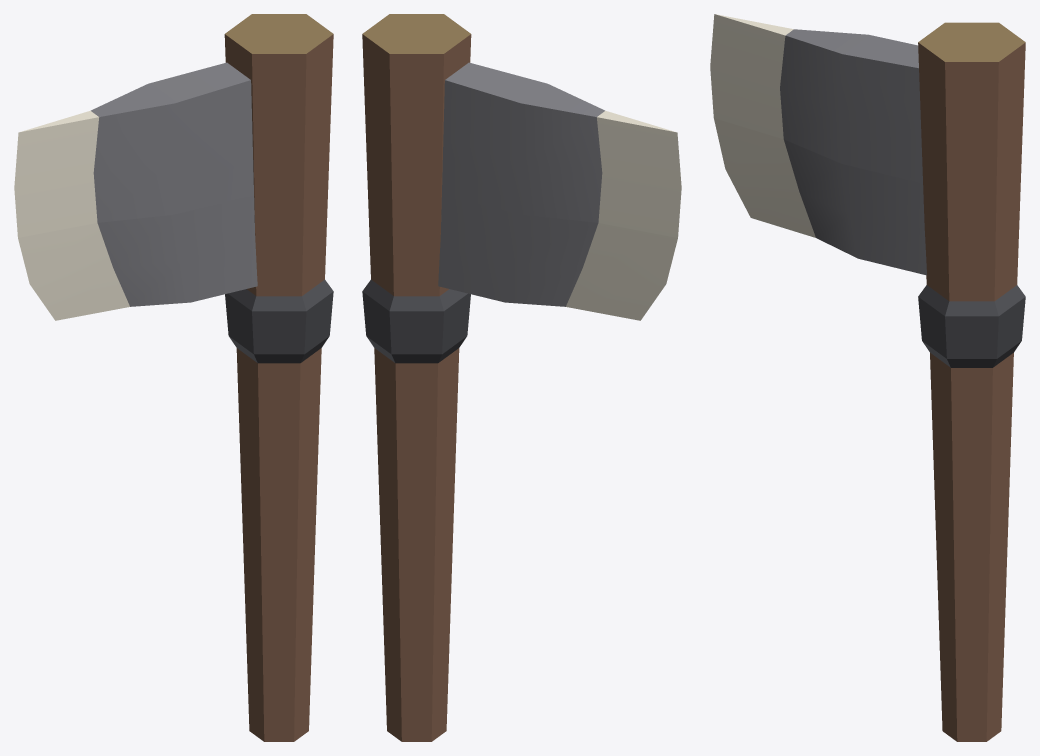
Rendered from Axe.fbx.
3 renders of one model, left to right at view 1: azimuth 30°, elevation 25°; view 2: azimuth 150°, elevation 25°; view 3: azimuth 330°, elevation 25°, orthographic.
Visible parts, largest first — view 1: pCylinder165; view 2: pCylinder165; view 3: pCylinder165.
Boxes of the visible parts, x1,y1,x2,y2 form: pCylinder165: (14,14,333,741); pCylinder165: (362,14,681,741); pCylinder165: (710,14,1025,741).
Size of the model in its own units: 51.83 by 113 by 16.
